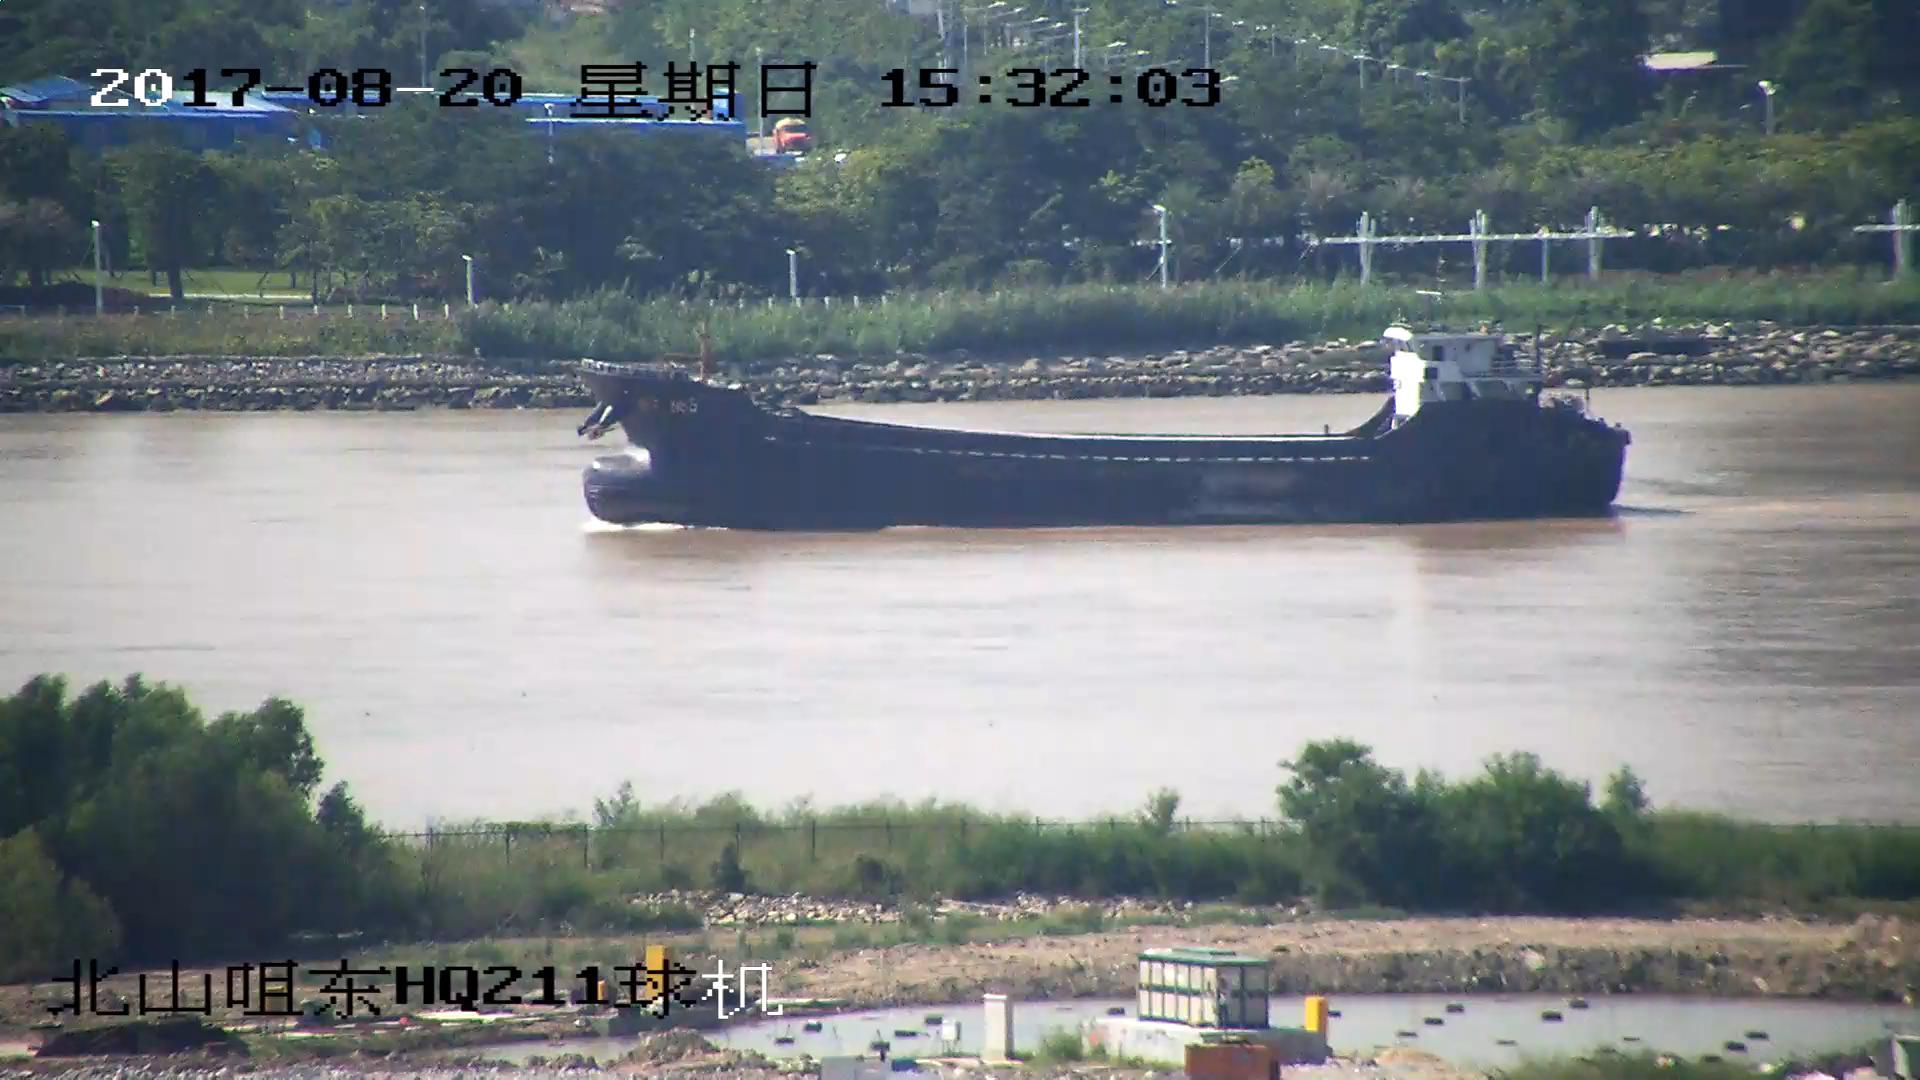Ship: (578, 327, 1636, 525)
